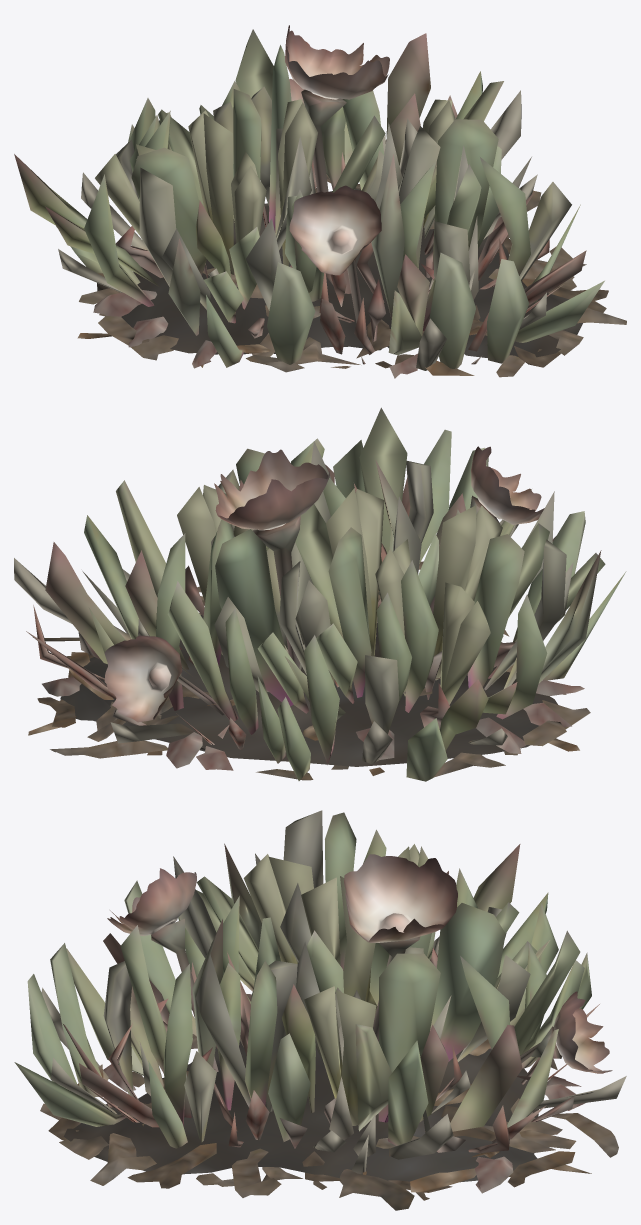
The model's file is ph_succulent_1.glb.
3 views of the same model, one above another, from view 1: azimuth 30°, elevation 25°; view 2: azimuth 150°, elevation 25°; view 3: azimuth 270°, elevation 25° (orthographic). The views are drawn at different scales.
Visible parts, largest first — view 1: ph_succulent_1_lod1; view 2: ph_succulent_1_lod1; view 3: ph_succulent_1_lod1.
Part boxes in pixels (left/top/right/bottom): ph_succulent_1_lod1: left=14, top=25, right=626, bottom=378; ph_succulent_1_lod1: left=14, top=407, right=626, bottom=781; ph_succulent_1_lod1: left=14, top=810, right=626, bottom=1210.
Size of the model in its own units: 0.488 by 0.2308 by 0.5017.
2 materials, 2 textured.
